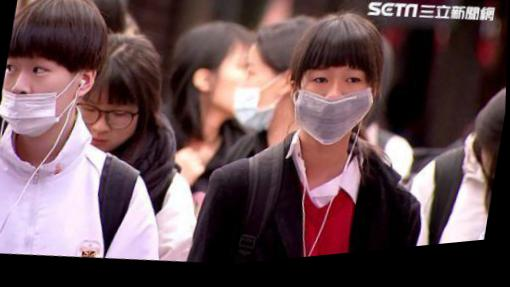NONE: (67, 90, 143, 165)
OK: (230, 58, 289, 142)
WRONG: (292, 64, 380, 160), (1, 37, 75, 145)
